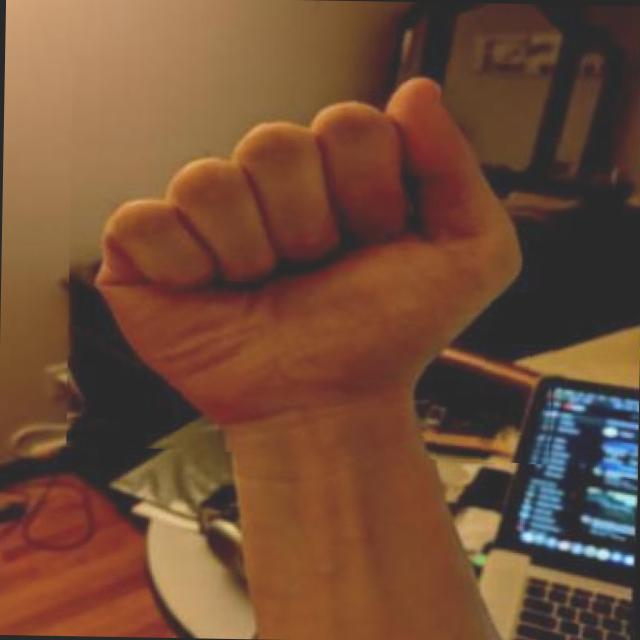A: (66, 56, 562, 464)
